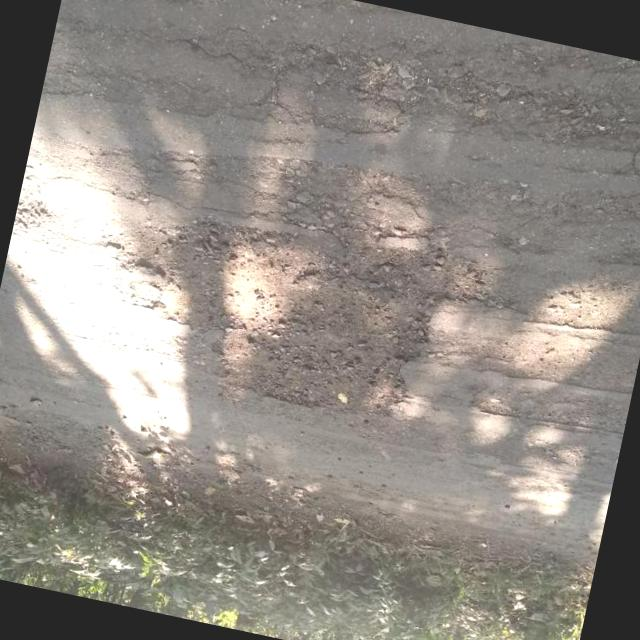pothole: (96, 172, 470, 438)
